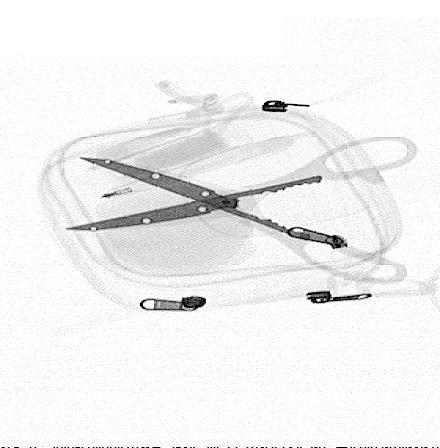Scissors: (63, 131, 424, 286)
